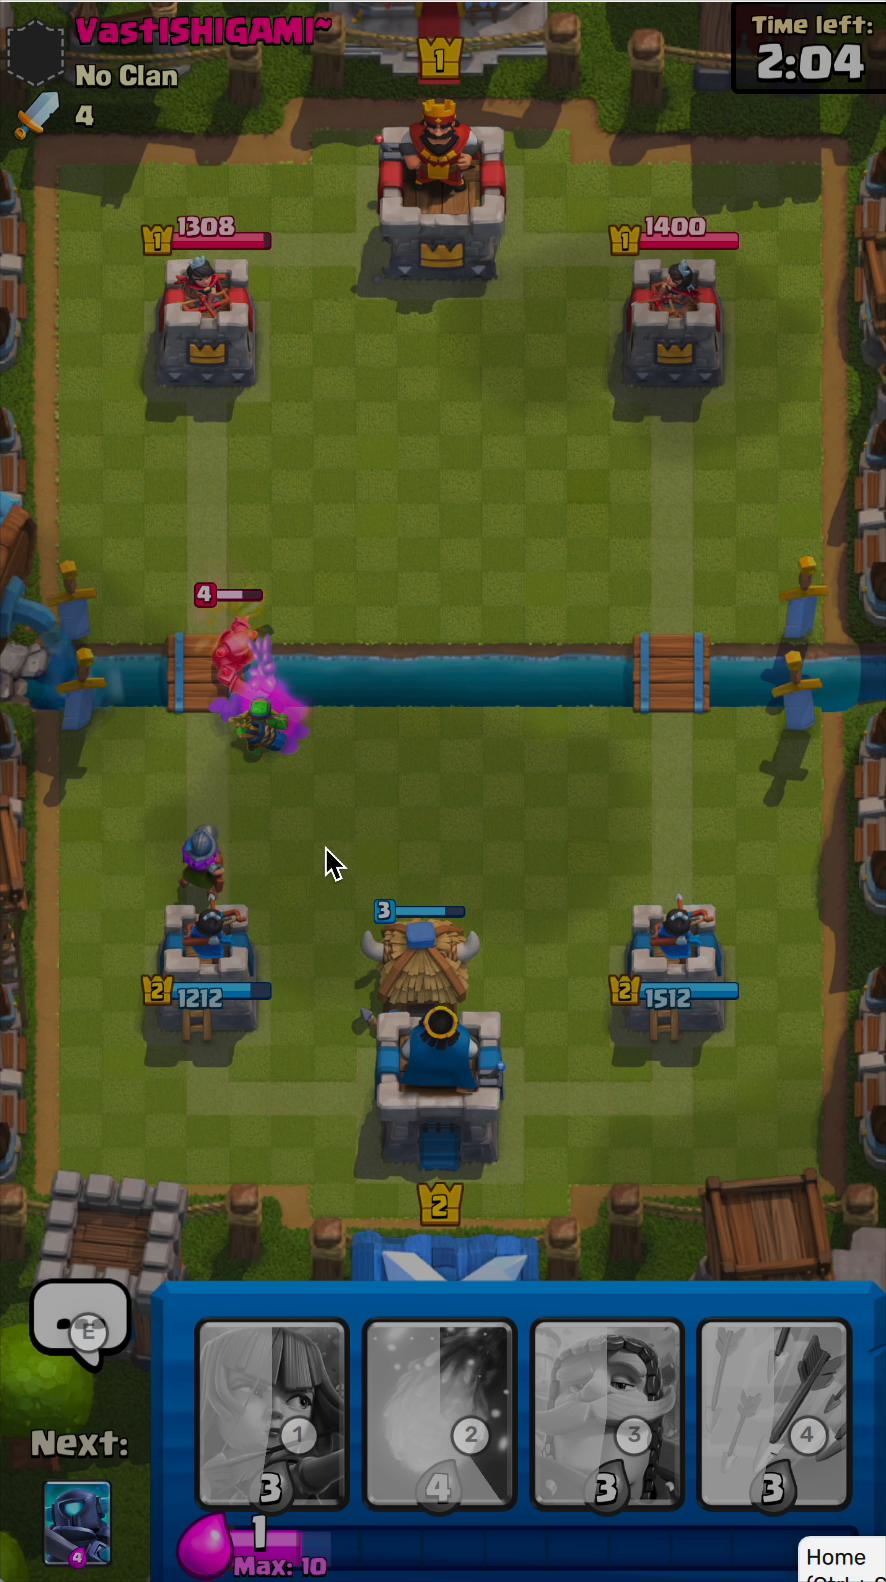gobelin_lances: (235, 693, 289, 753)
mini_PEKKA: (207, 616, 278, 695)
